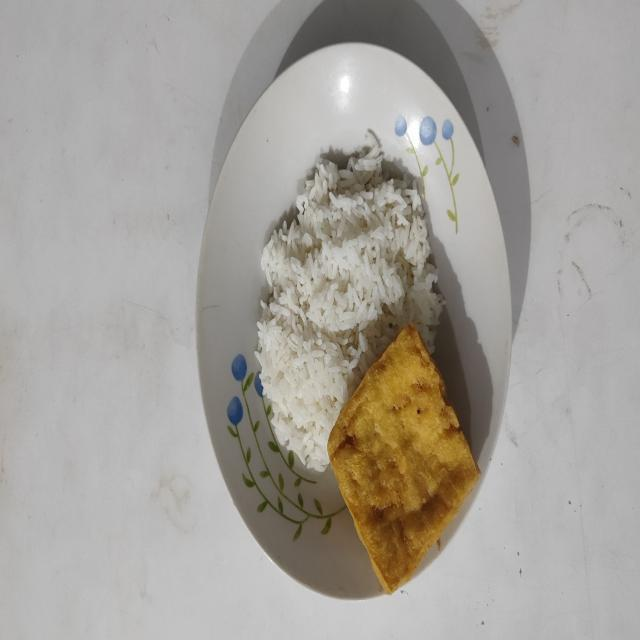nasi_putih: (255, 145, 445, 471)
tahu_goreng: (328, 324, 480, 594)
